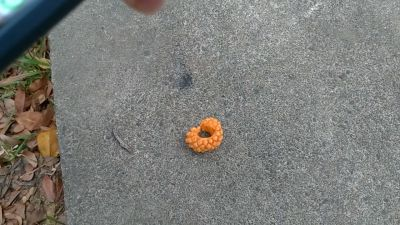eggs: (186, 115, 225, 155)
